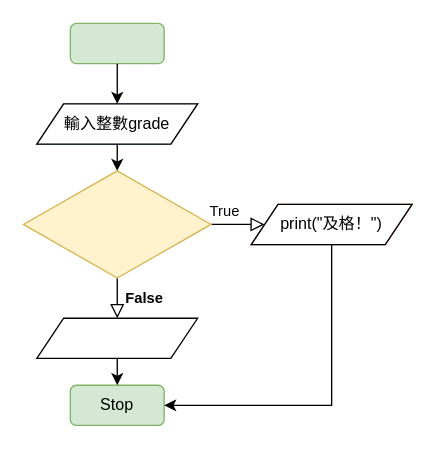
The diagram is 436 pixels wide and 449 high, and some of its shapes have lost their labels. Here are the shapes that lost their labels. From the top down, the centre of each, then its label:
(x=116, y=43): Start
(x=116, y=224): 變數grade是否 大於或等於60
(x=117, y=337): print("不及格！")
